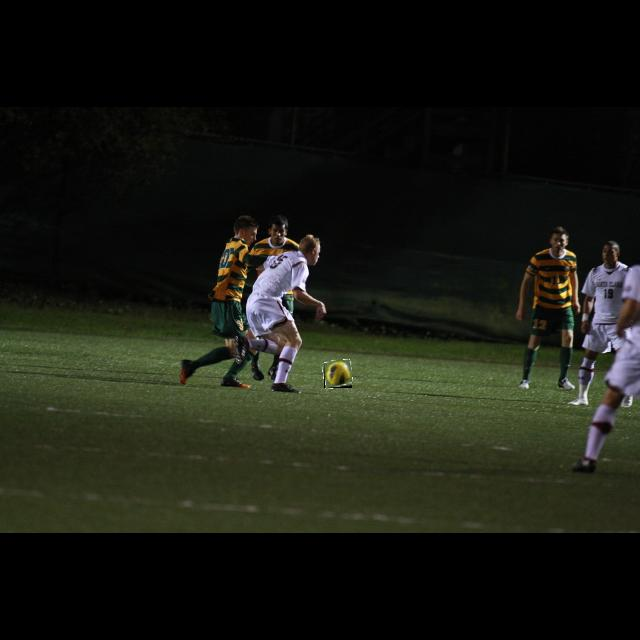Football: (324, 360, 352, 388)
